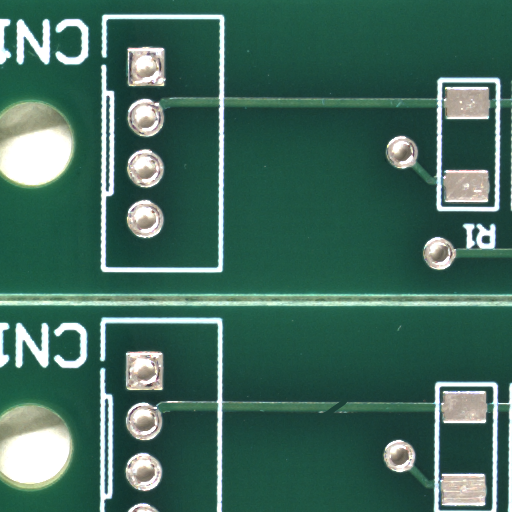Open_circuit: (335, 407, 360, 420)
